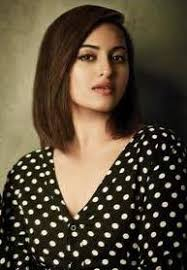indian_female: (29, 1, 152, 135)
